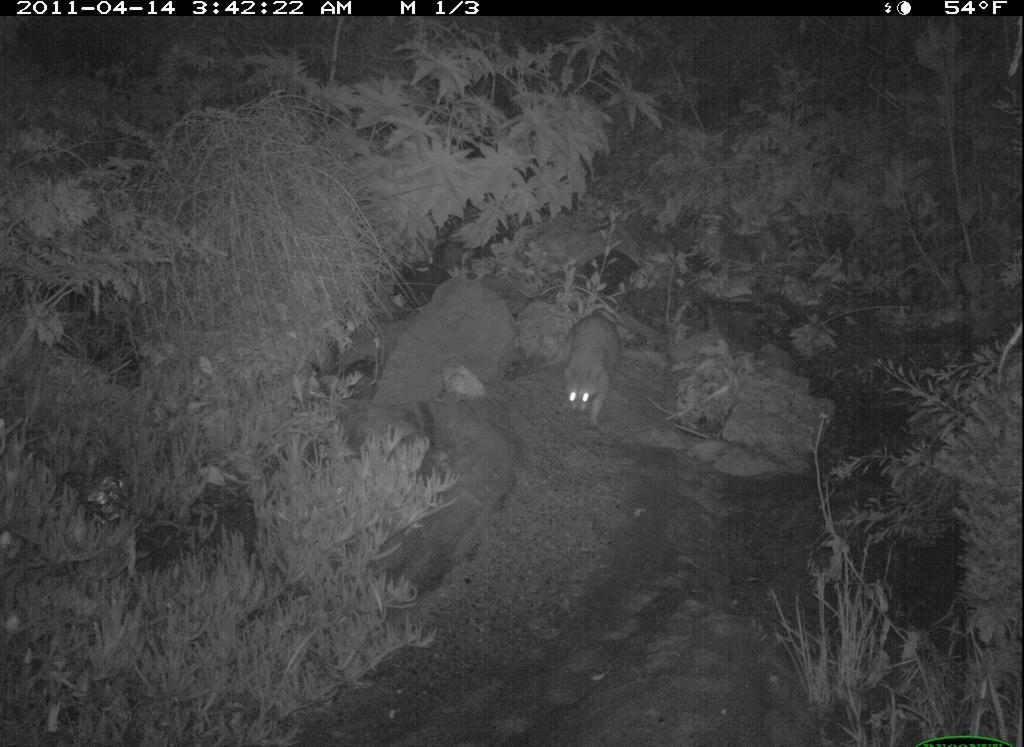raccoon: (550, 308, 630, 428)
